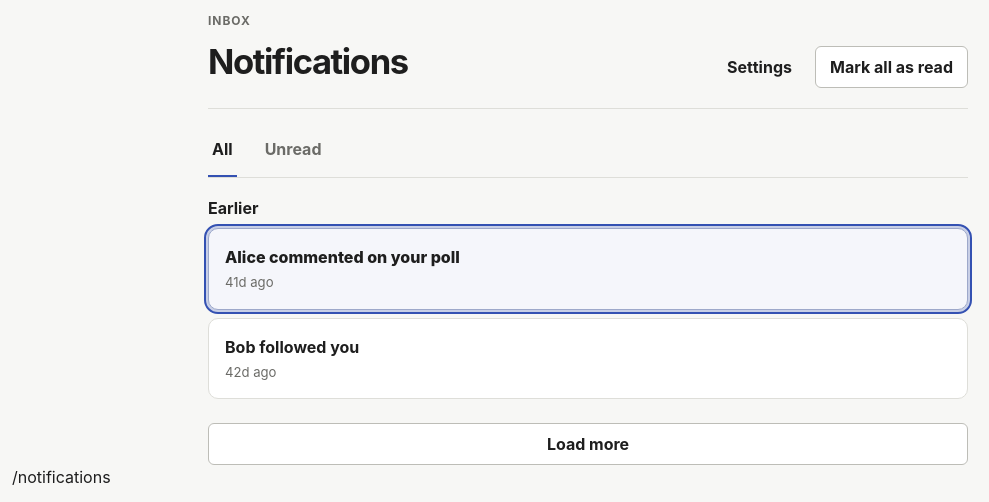
it: keeps the unread filter in the route context so returning restores the selected list
The image size is (989, 502).
What coordinates should you click on to do the following:
click the tab "Unread"
I would click on:
 (293, 155)
Its box is [261, 133, 326, 177].
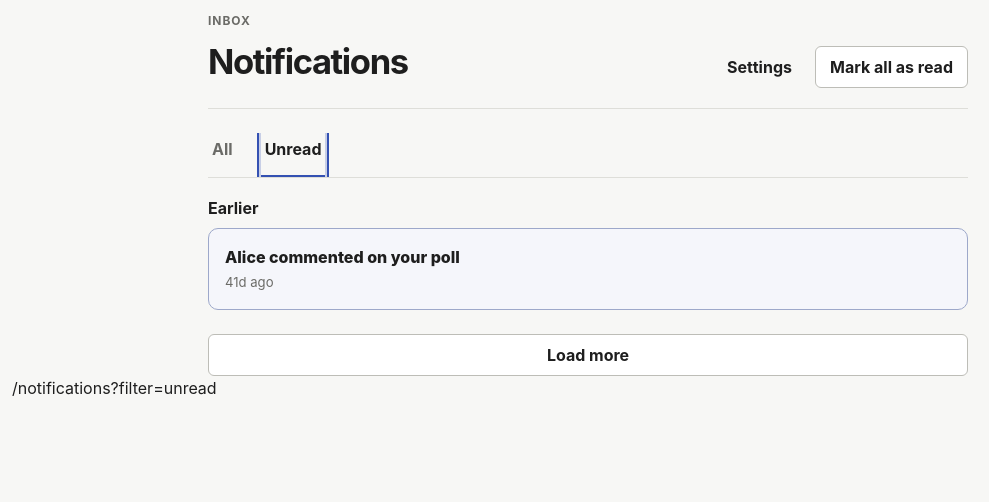
expect the text with test id "current-location" reads "/notifications?filter=unread": met, box [12, 378, 217, 398]
